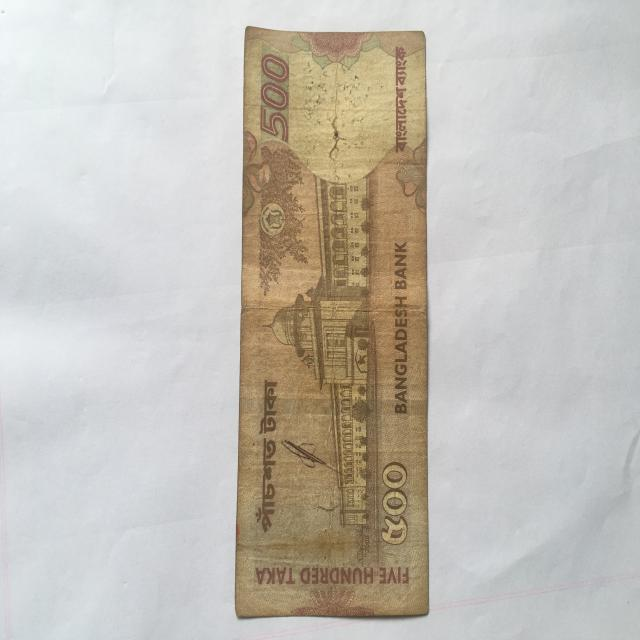Taka: (240, 18, 428, 616)
